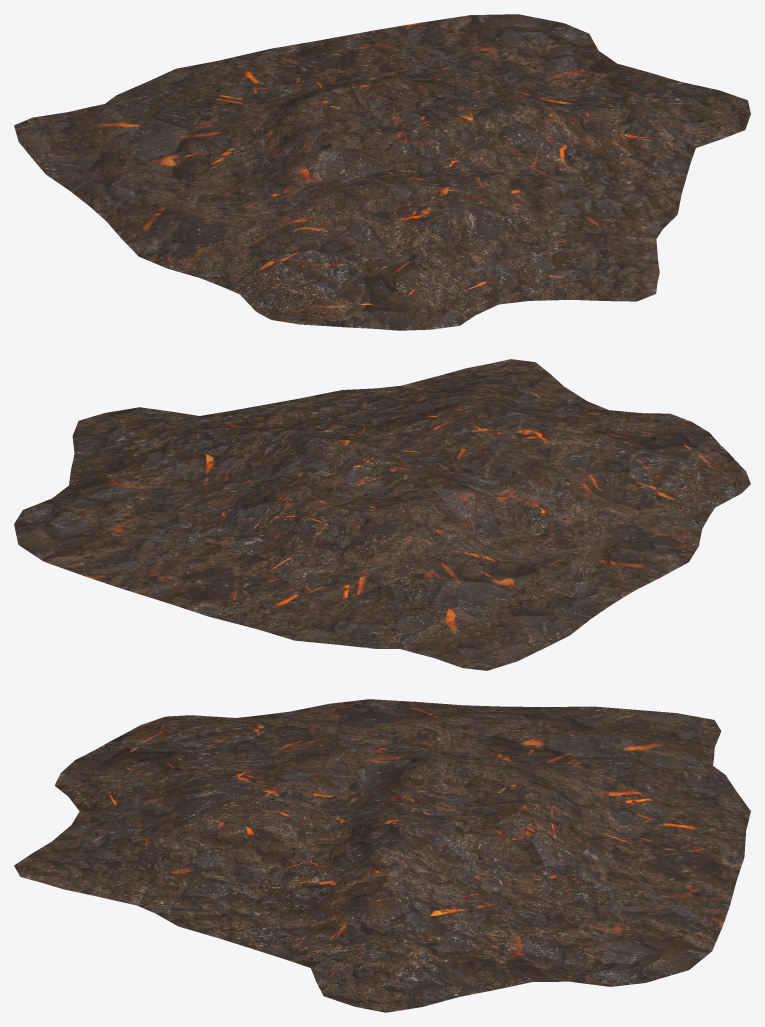
The model's file is EP1_Terrain04c.fbx.
3 renders of one model, top to bottom at view 1: azimuth 30°, elevation 25°; view 2: azimuth 150°, elevation 25°; view 3: azimuth 270°, elevation 25°, orthographic. The views are drawn at different scales.
Visible parts, largest first — view 1: EP1_Terrain04c; view 2: EP1_Terrain04c; view 3: EP1_Terrain04c.
Part boxes in pixels (x1,y1,x2,y2): EP1_Terrain04c: [14, 14, 750, 330]; EP1_Terrain04c: [14, 359, 750, 670]; EP1_Terrain04c: [14, 699, 750, 1012].
Bounding box in the file's own units: 22.77 × 1.82 × 22.61.
Materials: 1 (1 with a texture image).
